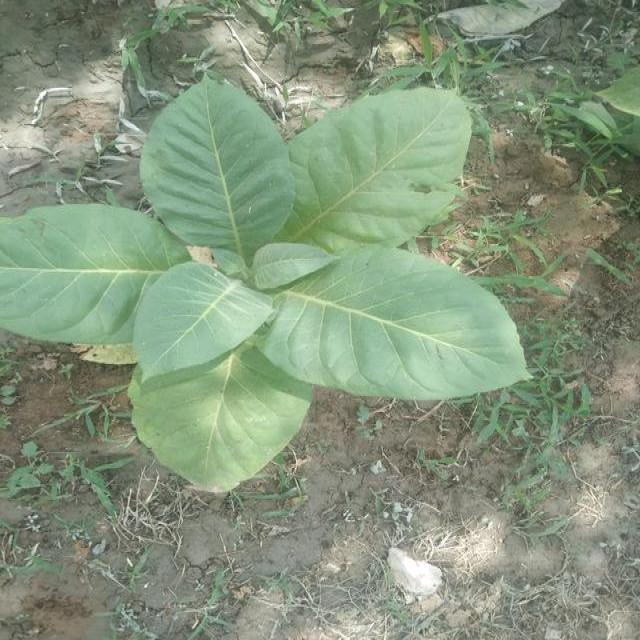crop: (0, 83, 532, 493)
